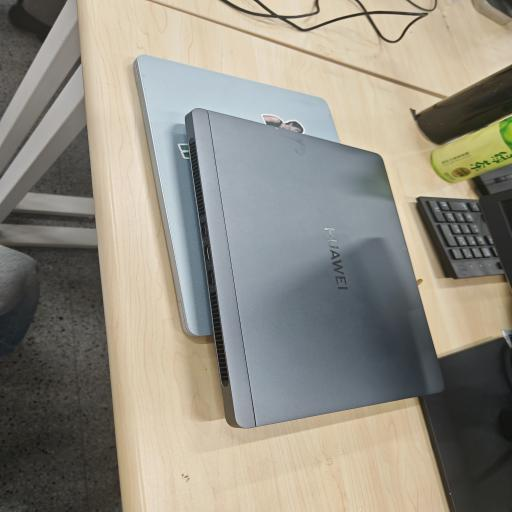laptop: (186, 108, 443, 428), (134, 55, 338, 336)
